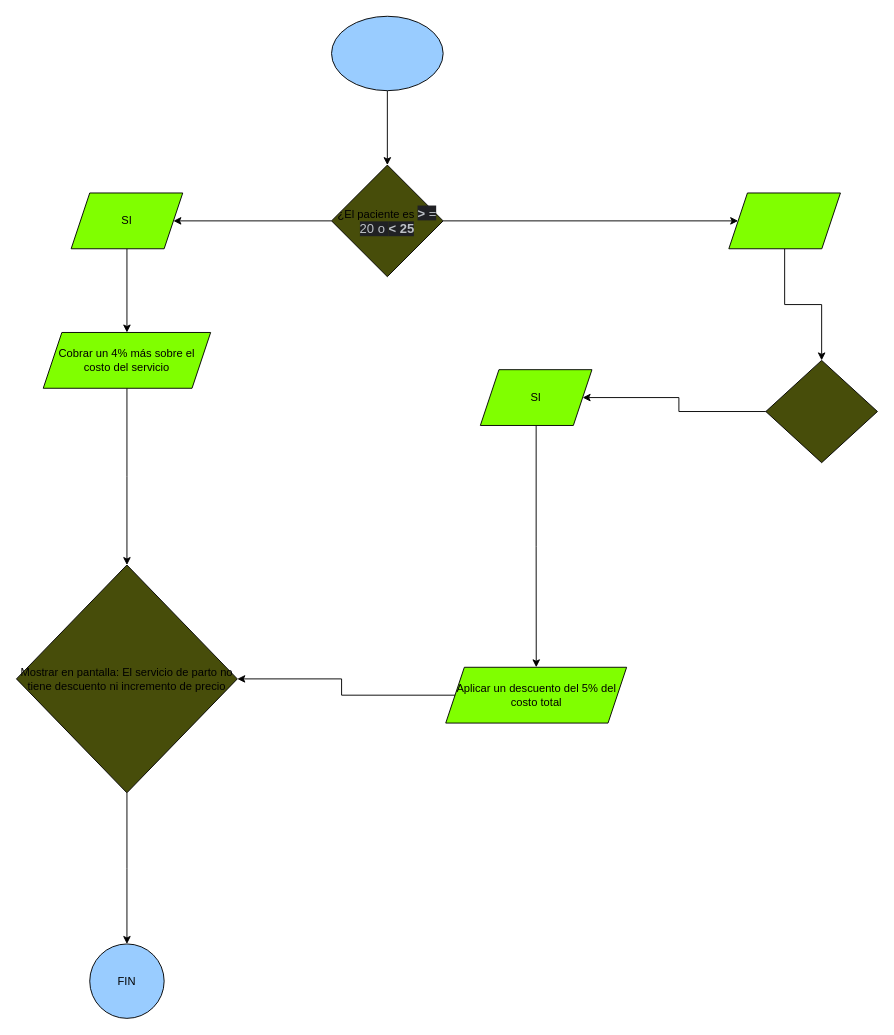
The diagram is 894 pixels wide and 1035 high, and some of its shapes have lost their labels. Here are the shapes that lost their labels. From the top down, the centre of each, then its label:
At [387,53]: "INICIO".
At [784,220]: "NO".
At [821,411]: "¿El paciente es >=65 años?".
